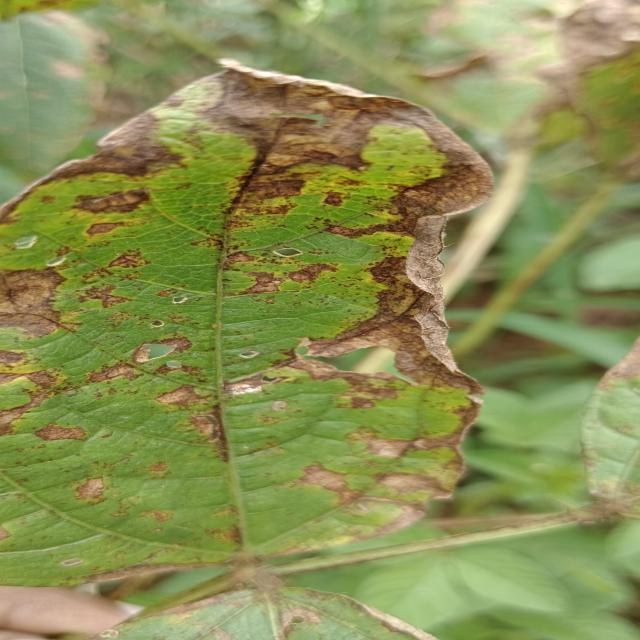Black gram_leaf spot: (0, 49, 493, 587)
